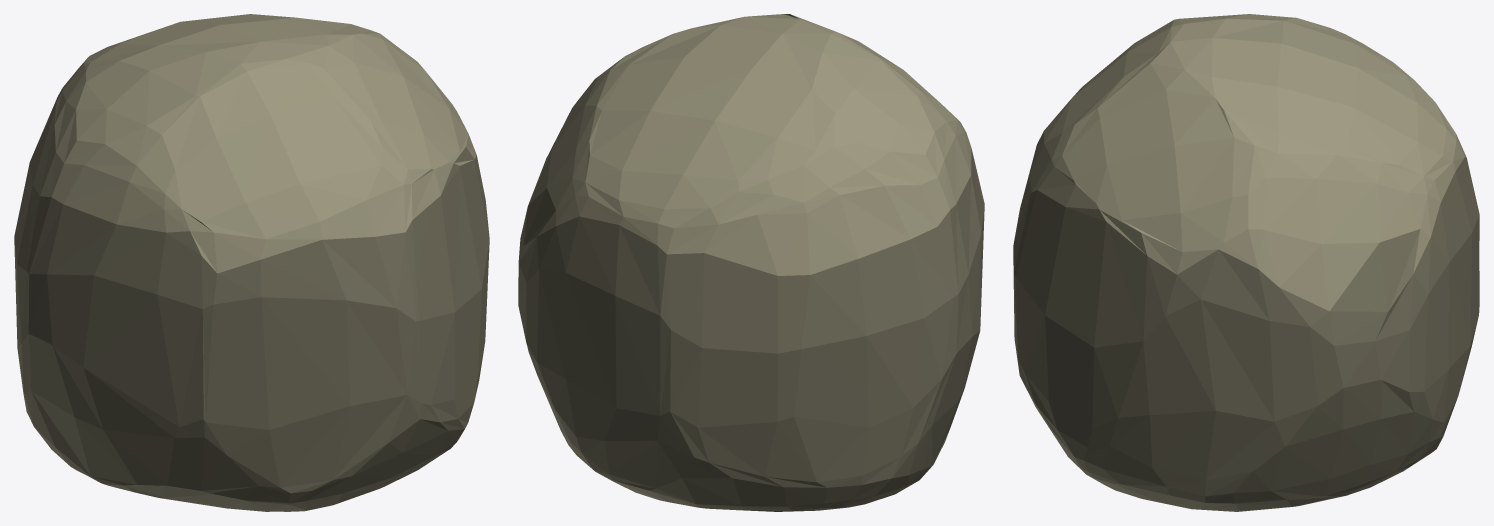
The model's file is VAULT_BOULDER.lo.glb.
3 renders of one model, left to right at view 1: azimuth 30°, elevation 25°; view 2: azimuth 150°, elevation 25°; view 3: azimuth 270°, elevation 25°, orthographic. The views are drawn at different scales.
Visible parts, largest first — view 1: Body_Mesh; view 2: Body_Mesh; view 3: Body_Mesh.
Boxes of the visible parts, bbox=[...] form: Body_Mesh: bbox=[14, 14, 489, 511]; Body_Mesh: bbox=[518, 14, 984, 511]; Body_Mesh: bbox=[1013, 14, 1479, 511].
Size of the model in its own units: 0.9925 by 1 by 0.9827.
